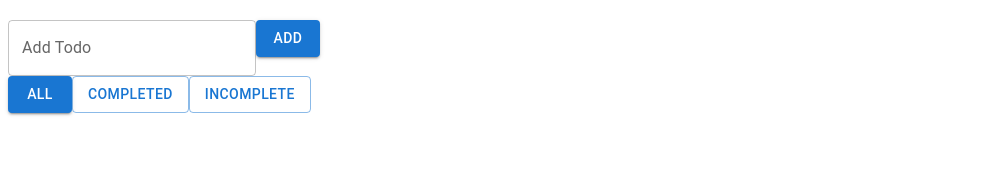
adds a new todo
Type "Test Todo" into the field labelled "Add Todo" at (132, 48), box [8,20,256,76]
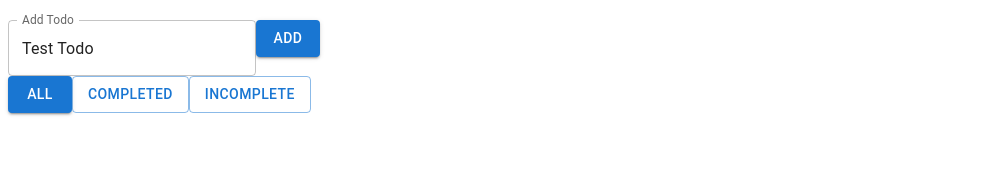
Press Enter in the field labelled "Add Todo", box [8,20,256,76]
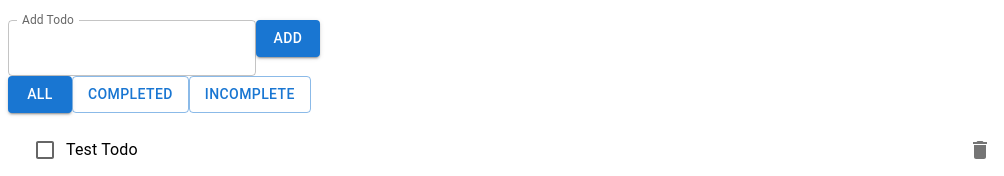
Expected: the text "Test Todo" is shown, [66,140,138,158]
